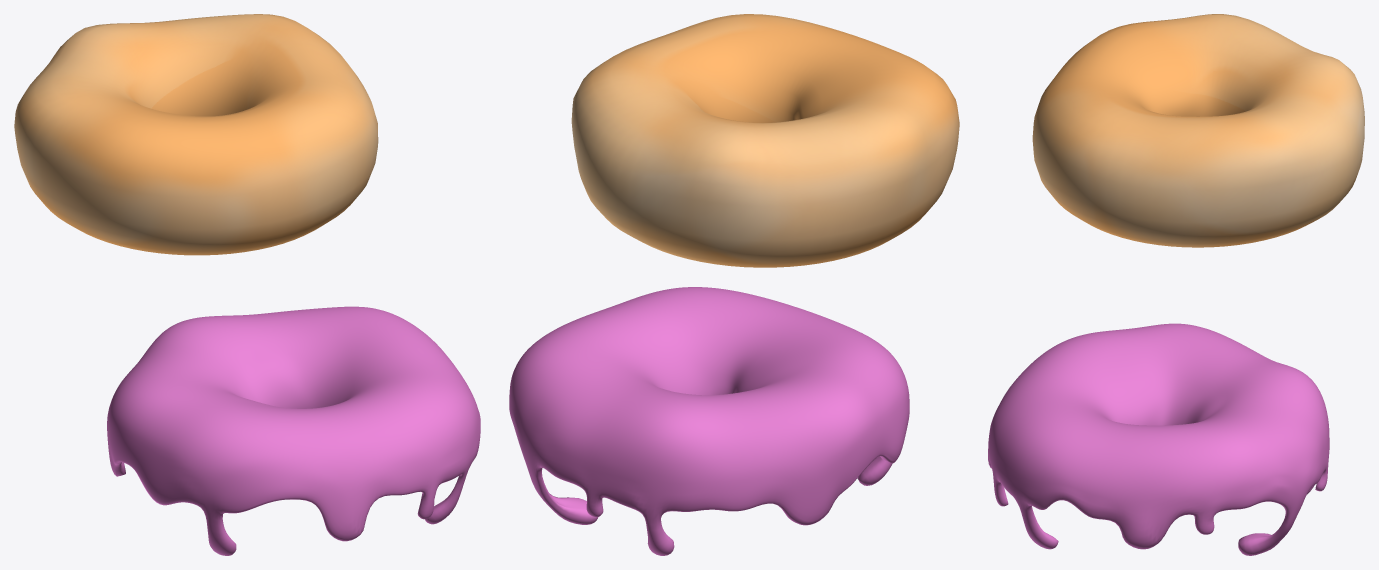
Rendered from Donut.fbx.
3 renders of one model, left to right at view 1: azimuth 30°, elevation 25°; view 2: azimuth 150°, elevation 25°; view 3: azimuth 270°, elevation 25°, orthographic. The views are drawn at different scales.
Visible parts, largest first — view 1: Donut.001, Icing.001; view 2: Donut.001, Icing.001; view 3: Donut.001, Icing.001.
Boxes of the visible parts, x1,y1,x2,y2 form: Donut.001: [14, 14, 378, 255]; Icing.001: [107, 306, 480, 555]; Donut.001: [571, 14, 959, 267]; Icing.001: [509, 287, 909, 555]; Donut.001: [1032, 14, 1364, 247]; Icing.001: [988, 323, 1329, 555].
Bounding box in the file's own units: 16.38 × 17.47 × 14.41.
Materials: 2 (1 with a texture image).
